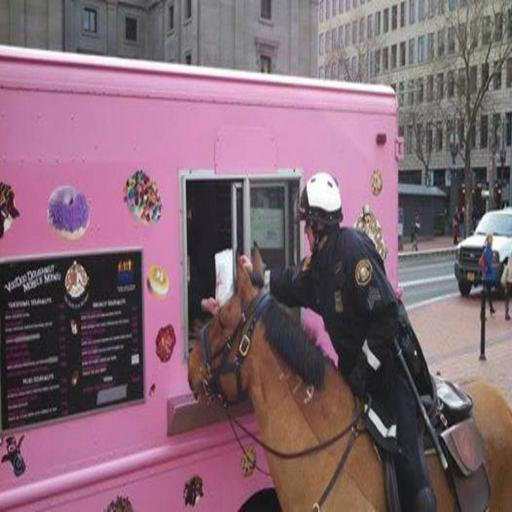horse: (188, 240, 511, 510)
